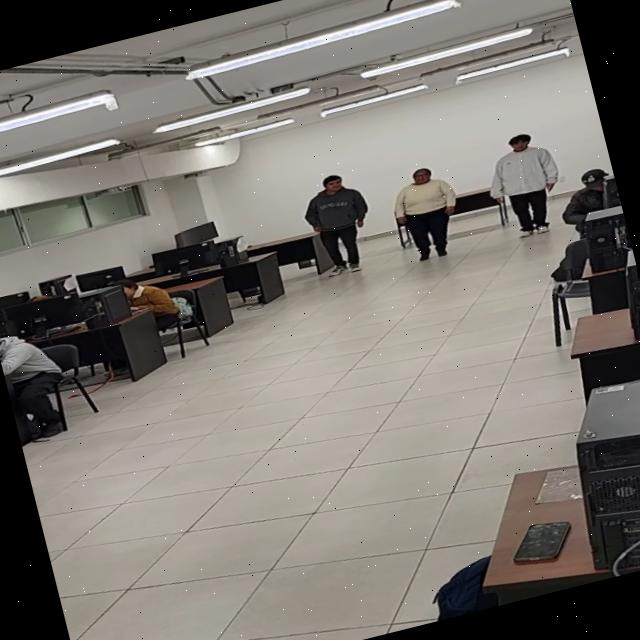Persona: (476, 122, 573, 248), (290, 164, 384, 287), (381, 156, 474, 266)
